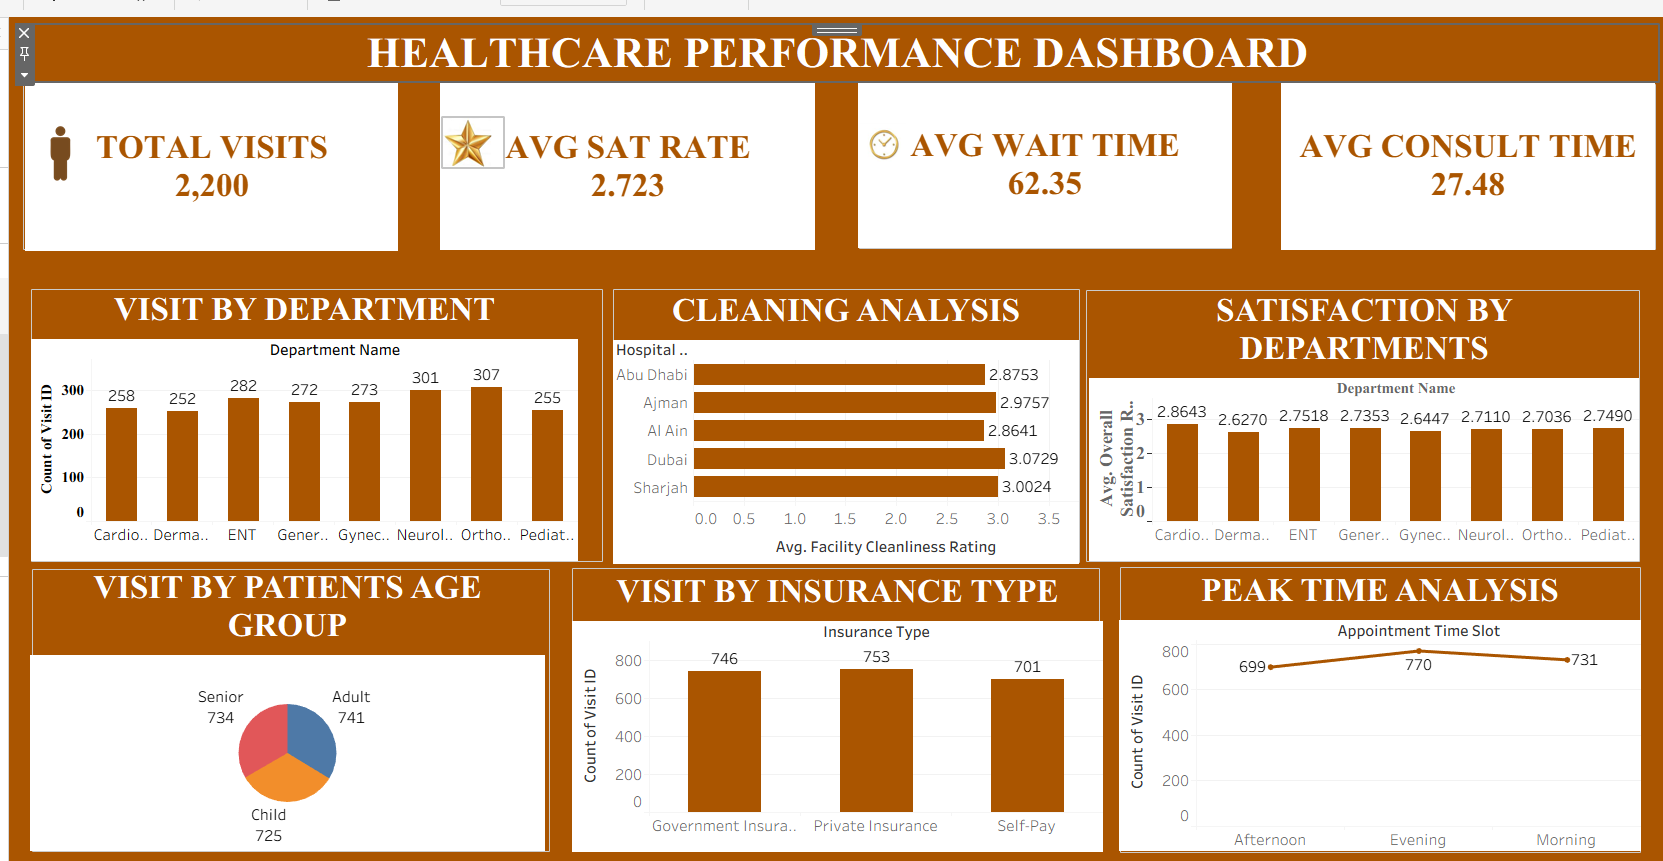

This screenshot's page, from the dashboard's own definition file:
{"tool":"tableau","page":{"name":"Dashboard 1","canvas":[1000,1000],"units":"permille","ordinal":0},"visuals":[{"type":"title","box":[4.8,9.4,990.3,65.8]},{"type":"worksheet","title":"AVG SATISFACTION RATE","mark":"Automatic","box":[280.6,71.7,196.1,162.2]},{"type":"worksheet","title":"WAITING TIME","mark":"Automatic","box":[524.4,72.9,187.7,162.2]},{"type":"worksheet","title":"AVG CONSULTATION TIME","mark":"Automatic","box":[755.6,72.9,190.7,162.2]},{"type":"worksheet","title":"TOTAL VISIT","mark":"Automatic","box":[56.1,74,183.5,159.8]},{"type":"image","param":"C:/Users/MEHARSAN/Downloads/pngtree-man-flat-brown-color-icon-avatar-png-image_1","box":[76,155.1,24.1,52.9]},{"type":"image","param":"C:/Users/MEHARSAN/Downloads/download (13).jpg","box":[306,155.1,24.7,47]},{"type":"image","param":"C:/Users/MEHARSAN/Downloads/download (14).jpg","box":[556.4,156.3,22.3,47]},{"type":"worksheet","title":"AGE GROUP","mark":"Pie","box":[469.5,275,205.8,346.7]},{"type":"worksheet","title":"CLEANING ANALYSIS","mark":"Automatic","rows":["Hospital_Branch"],"cols":["Facility_Cleanliness_Rating"],"box":[680.1,278.5,195.5,345.5]},{"type":"worksheet","title":"VISIT BY DEPARTMENT","mark":"Bar","rows":["Visit_ID"],"cols":["Department_Name"],"box":[1.8,279.7,248,343.1]},{"type":"worksheet","title":"TIME ANALYSIS","mark":"Line","rows":["Visit_ID"],"cols":["Appointment_Time_Slot"],"box":[253.5,280.9,211.2,340.8]},{"type":"filter","title":"CLEANING ANALYSIS","param":"[federated.0jbtpj20pp7rig1b19z650v2dh2e].[none:Hospital_Branch:nk]","box":[893.2,304.4,96.6,76.4]},{"type":"filter","title":"VISIT BY INSURANCE TYPE","param":"[federated.0jbtpj20pp7rig1b19z650v2dh2e].[none:Insurance_Type:nk]","box":[893.8,393.7,96.6,75.2]},{"type":"filter","title":"TIME ANALYSIS","param":"[federated.0jbtpj20pp7rig1b19z650v2dh2e].[none:Appointment_Time_Slot:nk]","box":[894.4,485.3,96.6,95.2]},{"type":"worksheet","title":"STAFF BEHAVIOUR ANALYSIS","mark":"Bar","rows":["Overall_Satisfaction_Rating"],"cols":["Staff_Behavior_Rating"],"box":[465.3,631,196.1,352.5]},{"type":"worksheet","title":"VISIT BY INSURANCE TYPE","mark":"Automatic","rows":["Visit_ID"],"cols":["Insurance_Type"],"box":[3,632.2,220.9,356.1]},{"type":"worksheet","title":"CONSULTATION ANALYSIS","mark":"Automatic","rows":["Overall_Satisfaction_Rating"],"cols":["Doctor_Consultation_Time_Minutes"],"box":[665.1,633.4,331.3,351.4]},{"type":"worksheet","title":"SATISFACTION BY DEPARTMENT","mark":"Automatic","rows":["Overall_Satisfaction_Rating"],"cols":["Department_Name"],"box":[230.5,634.6,230.5,351.4]}]}

Visuals, with their boxes on the dashboard's canvas, which has no fixed pixel size, in thousandths of its width and height (x1, y1, x2, y2). These are canvas units, not pixel positions in the 1663x861 screenshot, which may show the page scaled, cropped or inside an application window:
title: rect(5, 9, 995, 75)
"AVG SATISFACTION RATE" worksheet: rect(281, 72, 477, 234)
"WAITING TIME" worksheet: rect(524, 73, 712, 235)
"AVG CONSULTATION TIME" worksheet: rect(756, 73, 946, 235)
"TOTAL VISIT" worksheet: rect(56, 74, 240, 234)
image: rect(76, 155, 100, 208)
image: rect(306, 155, 331, 202)
image: rect(556, 156, 579, 203)
"AGE GROUP" worksheet (Pie marks): rect(470, 275, 675, 622)
"CLEANING ANALYSIS" worksheet: rect(680, 278, 876, 624)
"VISIT BY DEPARTMENT" worksheet (Bar marks): rect(2, 280, 250, 623)
"TIME ANALYSIS" worksheet (Line marks): rect(254, 281, 465, 622)
"CLEANING ANALYSIS" filter: rect(893, 304, 990, 381)
"VISIT BY INSURANCE TYPE" filter: rect(894, 394, 990, 469)
"TIME ANALYSIS" filter: rect(894, 485, 991, 580)
"STAFF BEHAVIOUR ANALYSIS" worksheet (Bar marks): rect(465, 631, 661, 984)
"VISIT BY INSURANCE TYPE" worksheet: rect(3, 632, 224, 988)
"CONSULTATION ANALYSIS" worksheet: rect(665, 633, 996, 985)
"SATISFACTION BY DEPARTMENT" worksheet: rect(230, 635, 461, 986)
